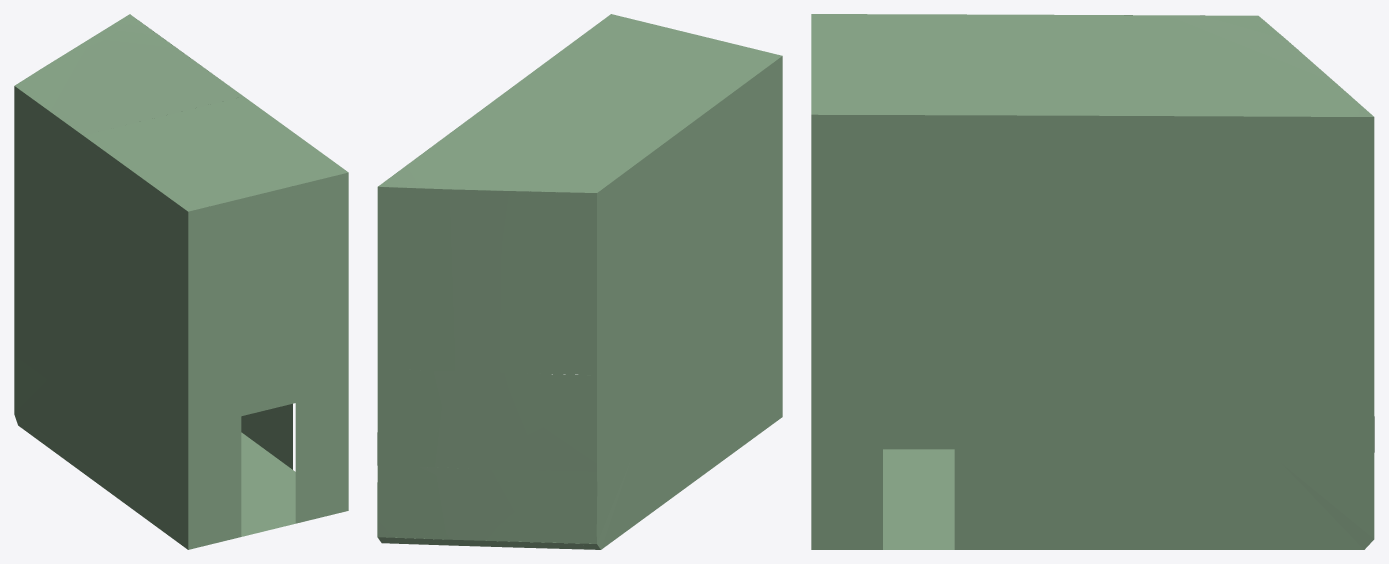
File: PAINTING_AND_SMALL_REPAIR.glb
3 renders of one model, left to right at view 1: azimuth 30°, elevation 25°; view 2: azimuth 150°, elevation 25°; view 3: azimuth 270°, elevation 25°, orthographic. The views are drawn at different scales.
Visible parts, largest first — view 1: PL_SideTransxFRBP_001001-11_NVA36_2014, PL_No8LBHDxAPTP_009003-10_NVA_1993, PL_UDxAPTP_002003-12_NVA_1993, PL_UDxAPTP_003003-12_NVA_1993, PL_SideTransxFRBP_001002-11_NVA36_2014, PL_No8LBHDxAPTP_013008-10_NVA_1993, PL_TankTopxAPTP_009001-12.5_NVA_1993, PL_No8LBHDxAPTP_013009-10_NVA_1993, PL_No8LBHDxAPTP_013010-10_NVA_1993, PL_SideTransxFR2P_001002-11_NVA36_2014, PL_SideTransxFRBP_002001-25_NVA36_2014; view 2: PL_SideTransxFRBP_001001-11_NVA36_2014, PL_OuterShellxAPTP_014003-18.5_NVA_1993, PL_OuterShellxAPTP_013005-18.5_NVA_1993, PL_UDxAPTP_002003-12_NVA_1993, PL_UDxAPTP_003003-12_NVA_1993, PL_OuterShellxAPTP_013006-18.5_NVA_1993, PL_SideTransxFRBP_001002-11_NVA36_2014, PL_OuterShellxAPTP_015001-18.5_NVA_1993, PL_SideTransxFRBP_002001-25_NVA36_2014; view 3: PL_SideTransxFR2P_001001-11_NVA36_2014, PL_SideTransxFR2P_001002-11_NVA36_2014, PL_UDxAPTP_002003-12_NVA_1993, PL_UDxAPTP_003003-12_NVA_1993, PL_TankTopxAPTP_009001-12.5_NVA_1993, PL_SideTransxFR2P_001003-11_NVA36_2014, PL_SideTransxFRBP_001002-11_NVA36_2014.
Boxes of the visible parts, box(x1,y1,x2,y2) form: PL_SideTransxFRBP_001001-11_NVA36_2014: box(14, 86, 188, 473); PL_No8LBHDxAPTP_009003-10_NVA_1993: box(188, 172, 348, 398); PL_UDxAPTP_002003-12_NVA_1993: box(83, 96, 348, 211); PL_UDxAPTP_003003-12_NVA_1993: box(14, 14, 242, 135); PL_SideTransxFRBP_001002-11_NVA36_2014: box(14, 347, 188, 549); PL_No8LBHDxAPTP_013008-10_NVA_1993: box(188, 359, 348, 474); PL_TankTopxAPTP_009001-12.5_NVA_1993: box(241, 432, 295, 536); PL_No8LBHDxAPTP_013009-10_NVA_1993: box(188, 461, 241, 549); PL_No8LBHDxAPTP_013010-10_NVA_1993: box(295, 435, 348, 523); PL_SideTransxFR2P_001002-11_NVA36_2014: box(241, 403, 292, 469); PL_SideTransxFRBP_002001-25_NVA36_2014: box(49, 111, 76, 152); PL_SideTransxFRBP_001001-11_NVA36_2014: box(597, 56, 782, 471); PL_OuterShellxAPTP_014003-18.5_NVA_1993: box(377, 187, 596, 375); PL_OuterShellxAPTP_013005-18.5_NVA_1993: box(377, 368, 596, 471); PL_UDxAPTP_002003-12_NVA_1993: box(499, 14, 782, 138); PL_UDxAPTP_003003-12_NVA_1993: box(378, 97, 669, 192); PL_OuterShellxAPTP_013006-18.5_NVA_1993: box(377, 465, 597, 543); PL_SideTransxFRBP_001002-11_NVA36_2014: box(596, 336, 782, 549); PL_OuterShellxAPTP_015001-18.5_NVA_1993: box(378, 537, 585, 549); PL_SideTransxFRBP_002001-25_NVA36_2014: box(634, 144, 663, 189); PL_SideTransxFR2P_001001-11_NVA36_2014: box(811, 114, 1374, 452); PL_SideTransxFR2P_001002-11_NVA36_2014: box(954, 452, 1374, 549); PL_UDxAPTP_002003-12_NVA_1993: box(811, 14, 1081, 115); PL_UDxAPTP_003003-12_NVA_1993: box(1081, 15, 1373, 116); PL_TankTopxAPTP_009001-12.5_NVA_1993: box(883, 449, 954, 549); PL_SideTransxFR2P_001003-11_NVA36_2014: box(811, 452, 882, 549); PL_SideTransxFRBP_001002-11_NVA36_2014: box(883, 398, 954, 449).
Bounding box in the file's own units: 3 × 6.04 × 7.08.
